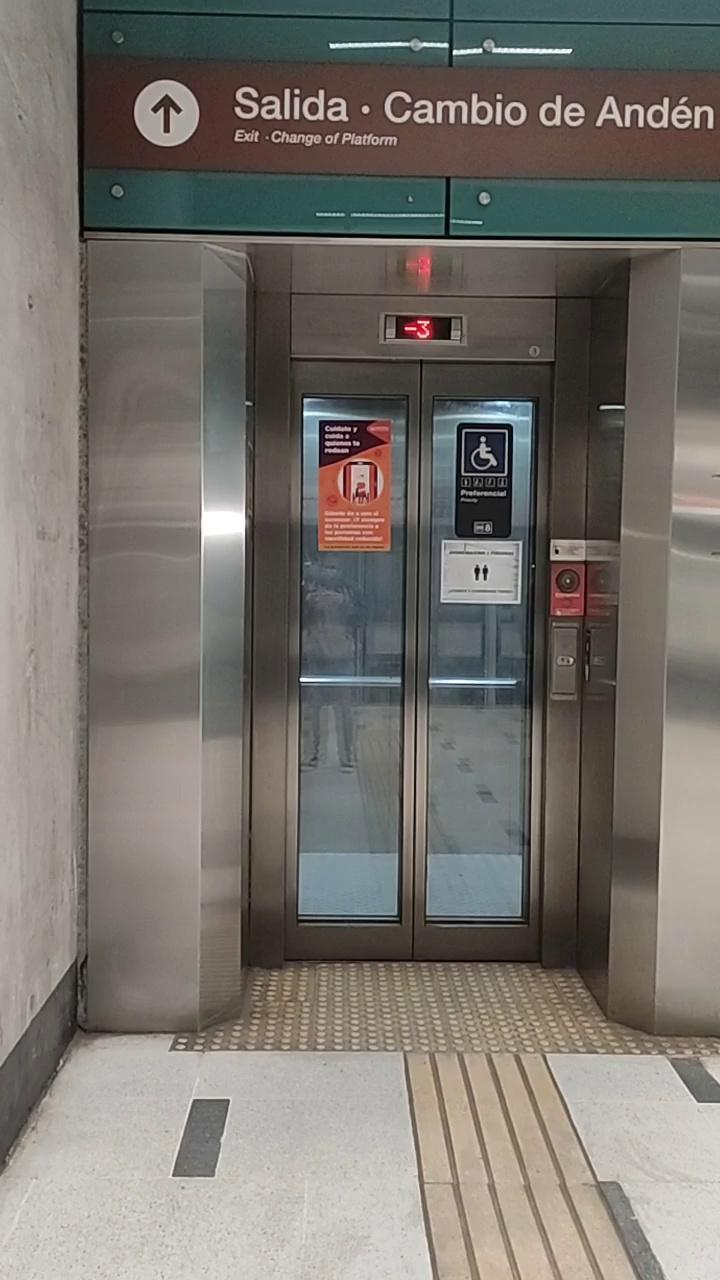handicapped symbol: (469, 435, 500, 472)
up arrow: (148, 92, 187, 137)
